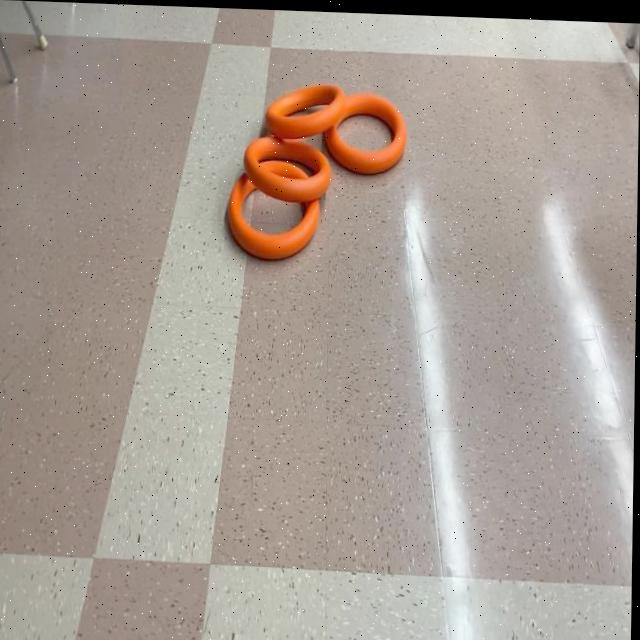note: (226, 154, 323, 264), (326, 86, 409, 172), (243, 132, 334, 206), (264, 79, 346, 144)
